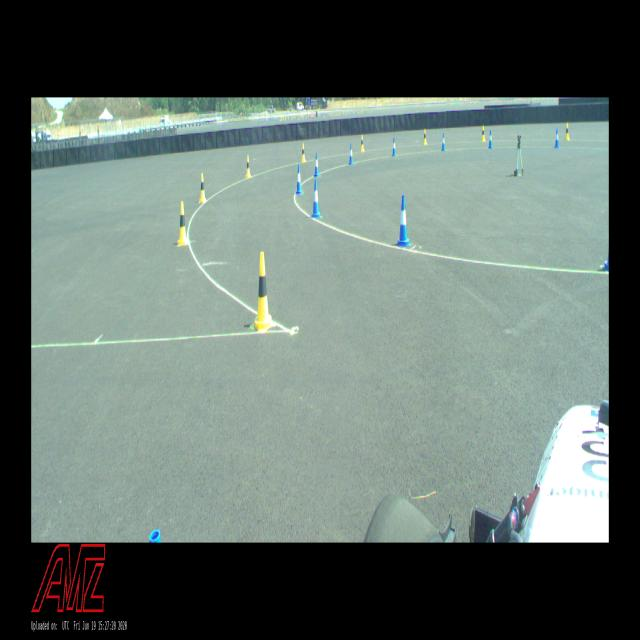blue_cone: (396, 195, 410, 248), (311, 179, 321, 218), (296, 165, 304, 195), (314, 153, 320, 177), (348, 143, 354, 164), (554, 129, 560, 148), (488, 130, 493, 149), (392, 138, 397, 156), (441, 134, 446, 151)
yellow_cone: (252, 252, 274, 332), (177, 201, 189, 246), (198, 173, 208, 203), (245, 155, 252, 179), (565, 122, 570, 142), (301, 143, 306, 162), (481, 125, 486, 142), (360, 135, 364, 152), (423, 129, 427, 145)
